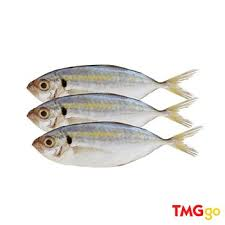Ikan Selar: (34, 123, 200, 168), (27, 93, 195, 132), (27, 65, 198, 103)
